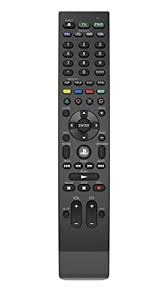remote control: (58, 8, 111, 278)
